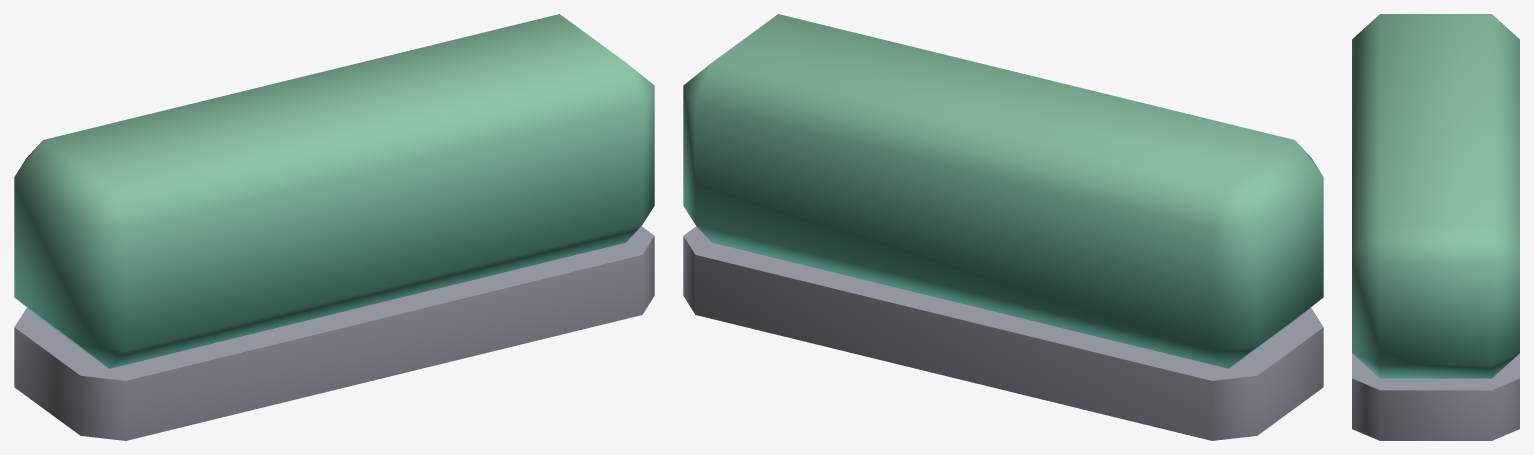
The model's file is hedge.glb.
3 views of the same model, side by side, from view 1: azimuth 30°, elevation 25°; view 2: azimuth 150°, elevation 25°; view 3: azimuth 270°, elevation 25° (orthographic). The views are drawn at different scales.
Visible parts, largest first — view 1: hedge; view 2: hedge; view 3: hedge.
Part boxes in pixels (box(x1,y1,x2,y2)): hedge: box(14, 14, 654, 440); hedge: box(683, 14, 1323, 440); hedge: box(1352, 14, 1519, 440).
Size of the model in its own units: 1 by 0.4 by 0.3.
